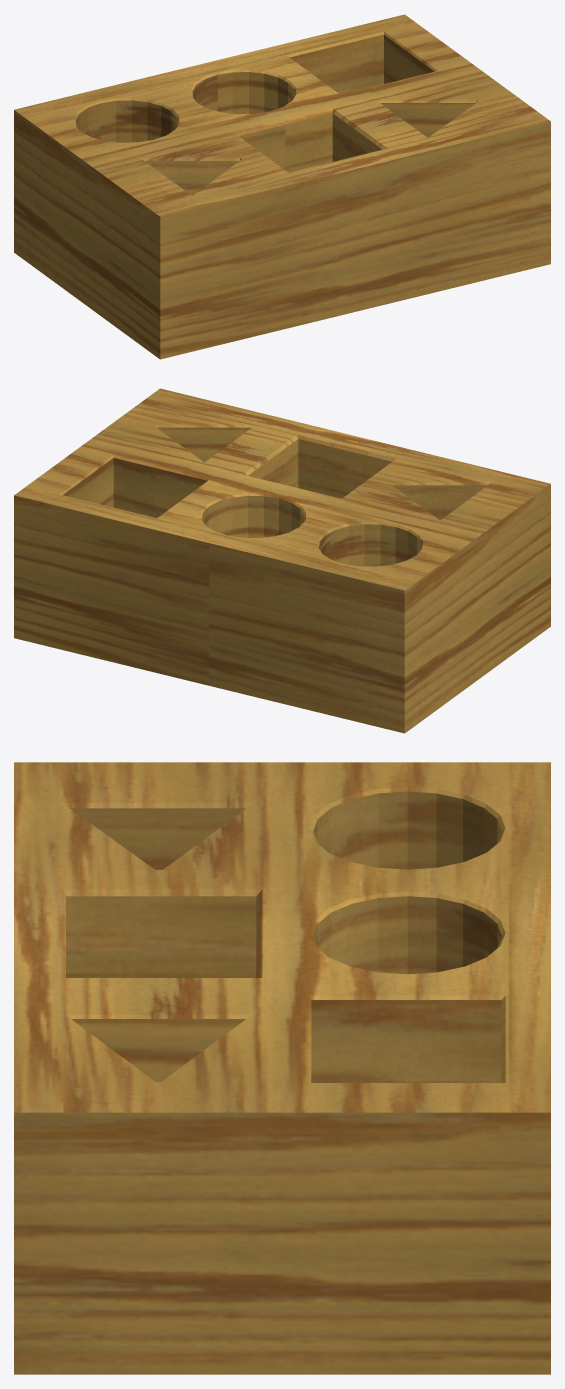
File: tsumiki_case.fbx
3 renders of one model, top to bottom at view 1: azimuth 30°, elevation 25°; view 2: azimuth 150°, elevation 25°; view 3: azimuth 270°, elevation 25°, orthographic. The views are drawn at different scales.
Visible parts, largest first — view 1: Default; view 2: Default; view 3: Default.
Part boxes in pixels (x1,y1,x2,y2): Default: [14, 14, 550, 359]; Default: [14, 388, 550, 733]; Default: [14, 762, 550, 1374].
Bounding box in the file's own units: 11.63 × 4.06 × 7.54.
Materials: 1 (1 with a texture image).
